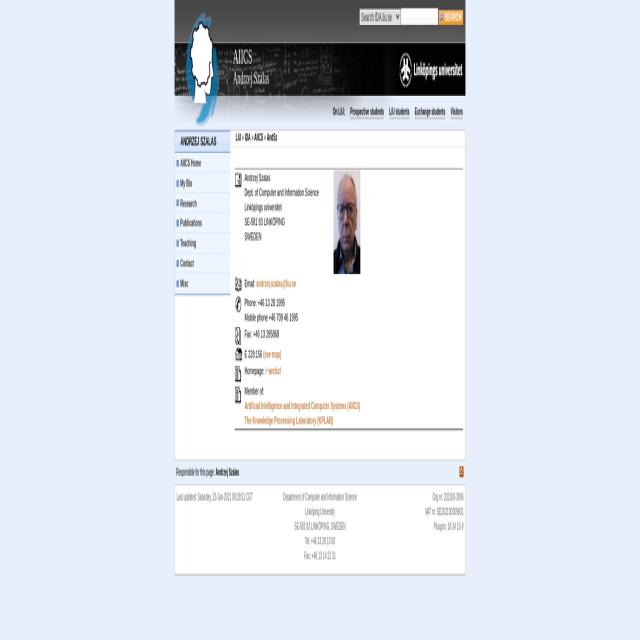button: (186, 10, 219, 126), (400, 43, 466, 93), (334, 170, 361, 274), (175, 153, 231, 173), (175, 173, 231, 193), (175, 193, 231, 213), (175, 273, 231, 293), (175, 214, 231, 233), (175, 234, 231, 253), (175, 254, 231, 273), (235, 346, 243, 362), (235, 362, 241, 382), (235, 383, 241, 403), (235, 170, 241, 188), (235, 276, 241, 294), (235, 296, 241, 314), (235, 326, 241, 344), (459, 464, 464, 478)
field: (401, 8, 438, 25), (360, 9, 400, 24), (439, 10, 463, 25)
